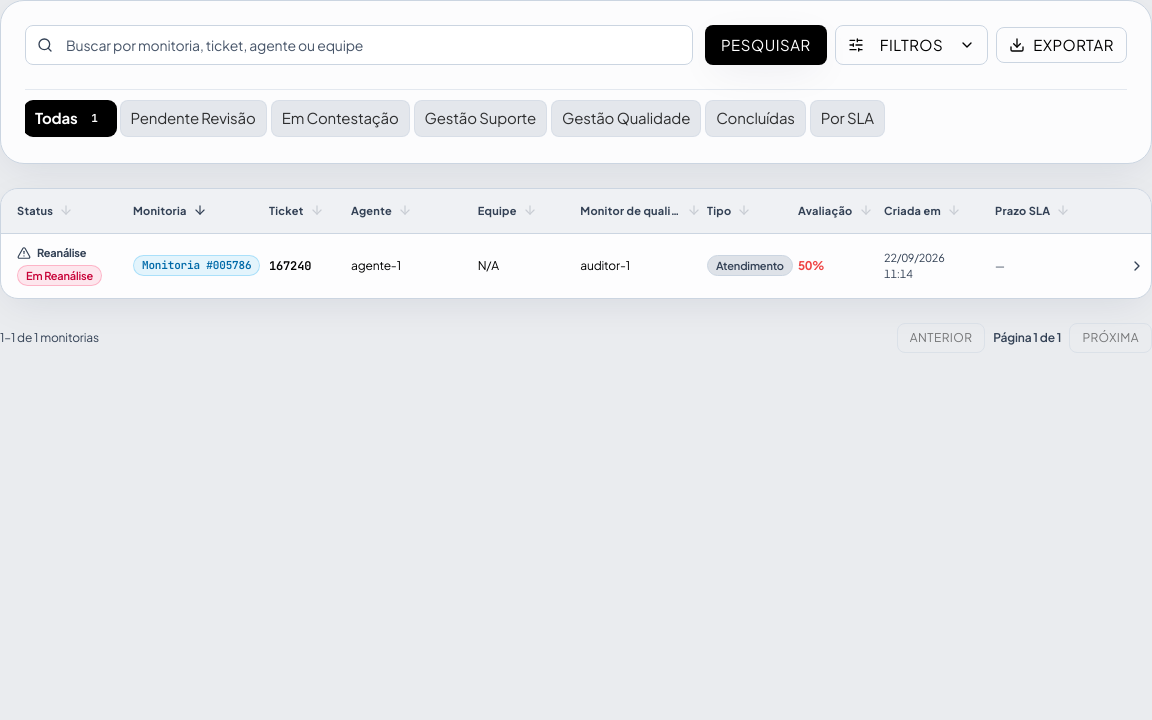
MonitoriaList actions › abre a monitoria ao clicar em qualquer parte da linha da tabela
The width and height of the screenshot is (1152, 720).
Click the row named "Abrir monitoria 5786": (62, 253) x1=1 y1=234 x2=1151 y2=298
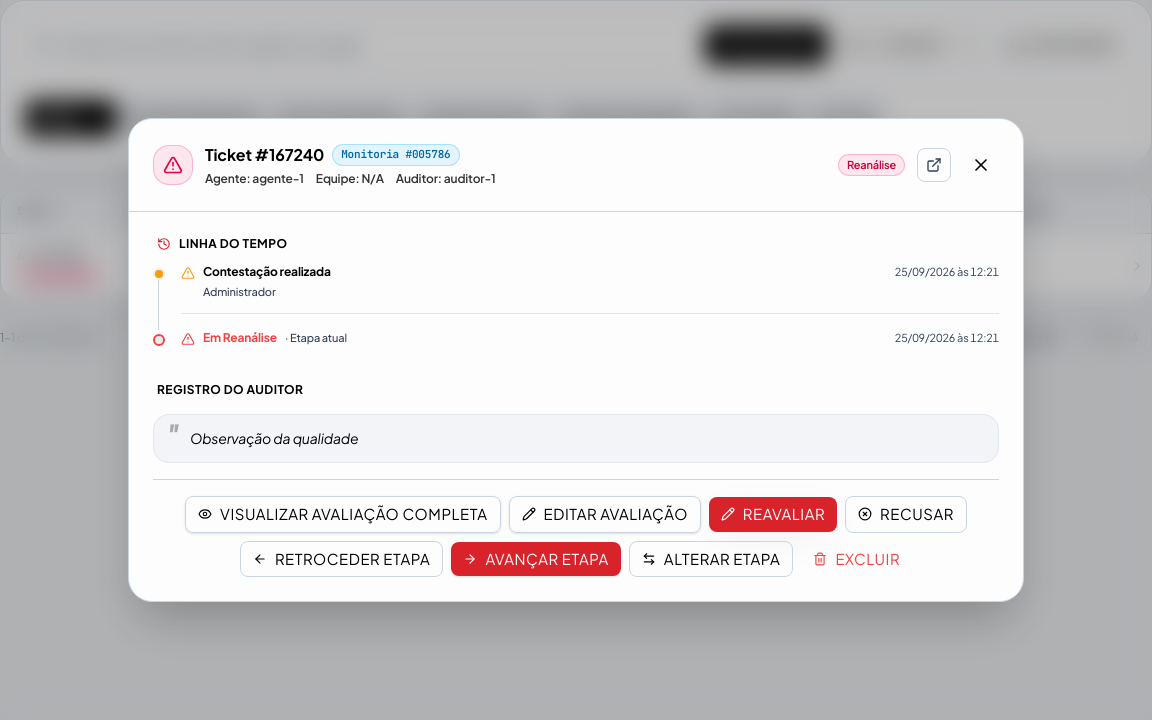
expect the dialog is shown: met, box x1=128 y1=118 x2=1024 y2=602
